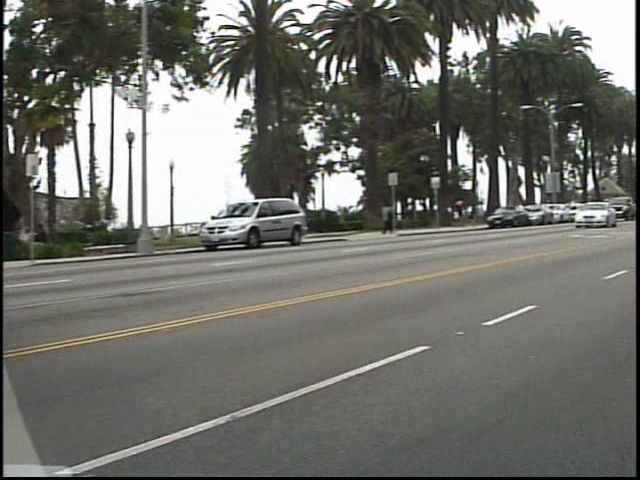person: (388, 200, 410, 239), (461, 194, 481, 229)
